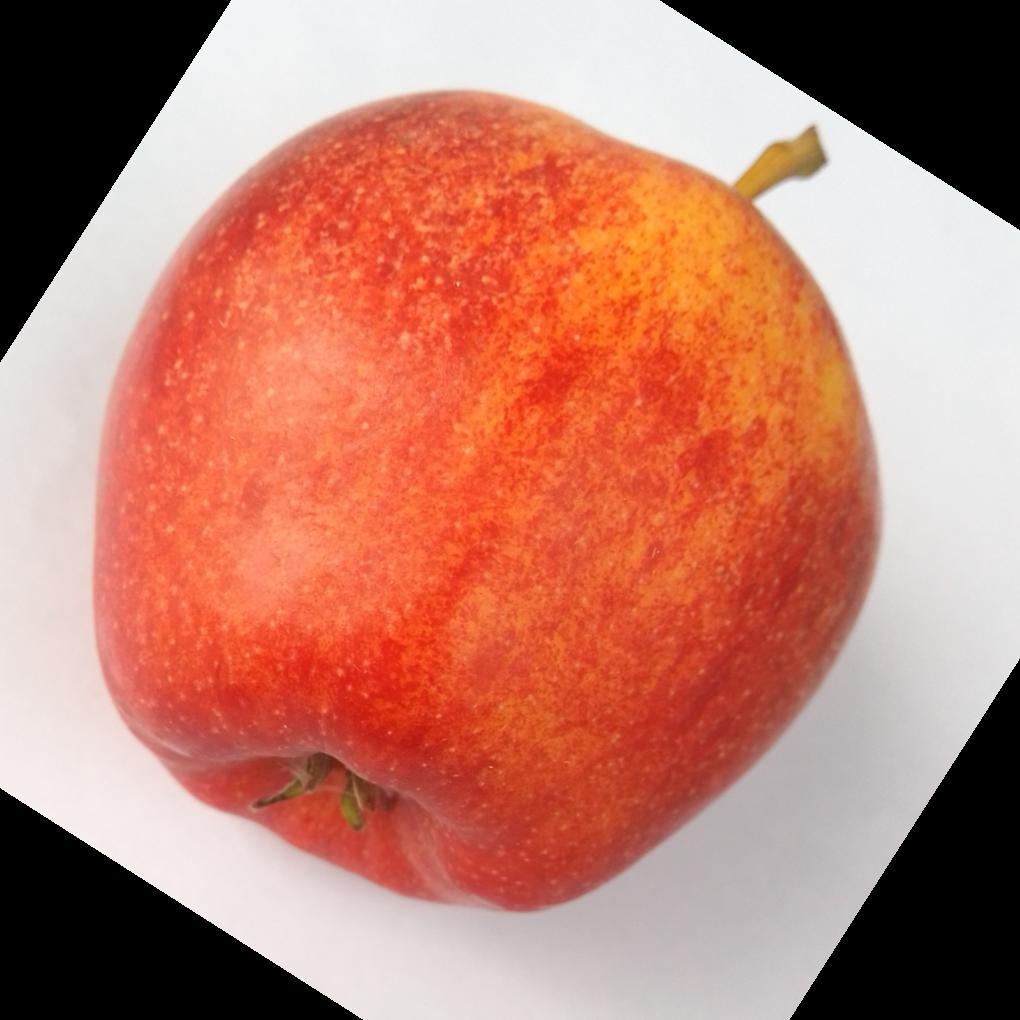FreshGuava: (88, 90, 883, 919)
